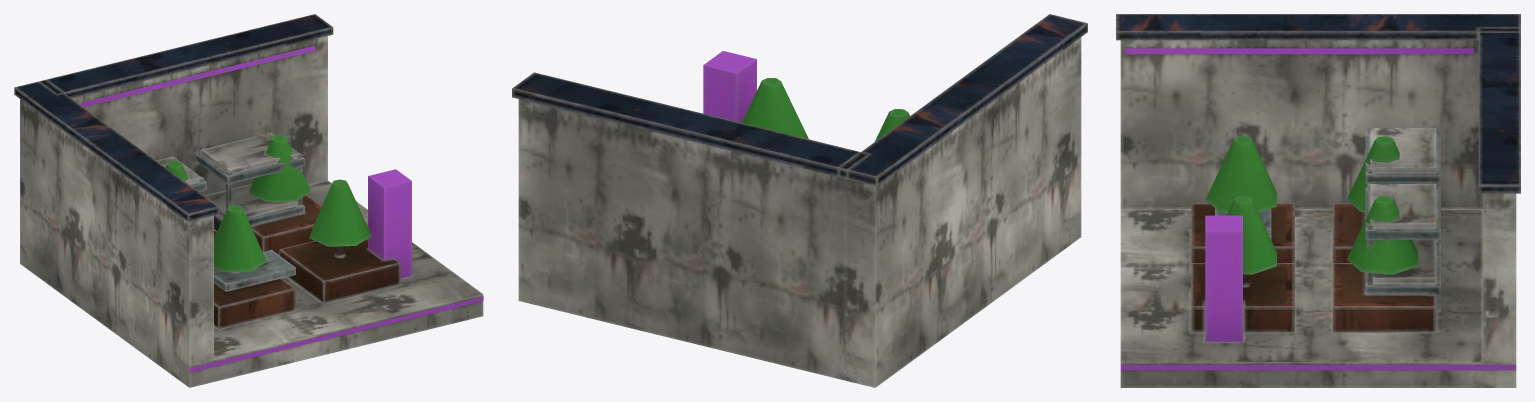
File: habitat_t5.glb
The picture shows the model from 3 angles, left to right: view 1: azimuth 30°, elevation 25°; view 2: azimuth 150°, elevation 25°; view 3: azimuth 270°, elevation 25°; orthographic projection. The views are drawn at different scales.
Parts seen in each view (by area): view 1: te_habitat_t5; view 2: te_habitat_t5; view 3: te_habitat_t5.
Boxes of the visible parts, box(x1,y1,x2,y2) form: te_habitat_t5: box(14, 14, 483, 387); te_habitat_t5: box(512, 14, 1087, 387); te_habitat_t5: box(1116, 14, 1520, 387).
Bounding box in the file's own units: 0.86 × 0.48 × 0.86.
1 material, 1 textured.
